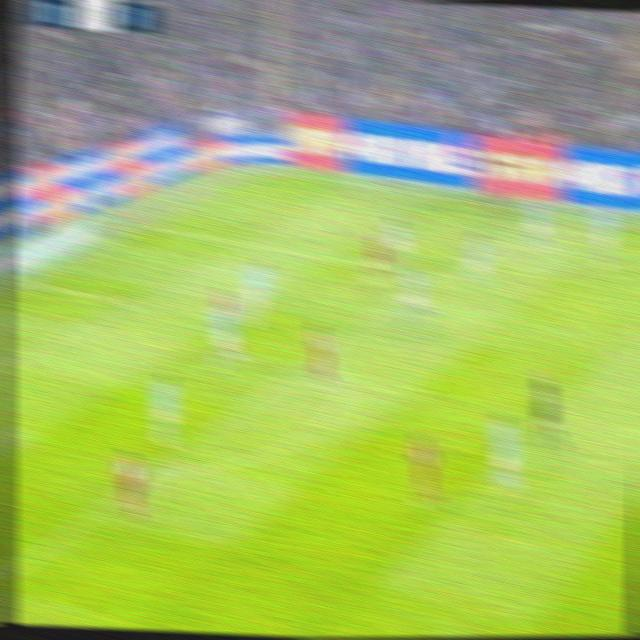bigarea_top_inner: (412, 262, 446, 290)
bigarea_top_outter: (134, 217, 167, 237)
bottom_arc_area_intersection: (138, 459, 173, 487)
corner: (254, 163, 278, 174)
smallarea_top_inner: (107, 289, 139, 315)
smallarea_top_outter: (9, 271, 42, 294)
